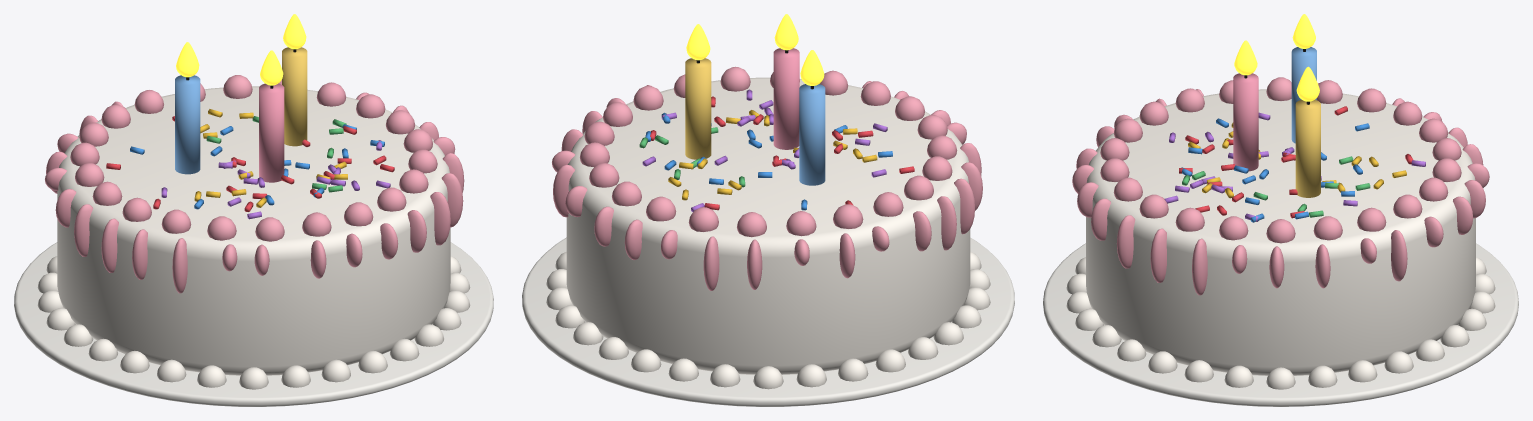
The model's file is birthday_cake.glb.
3 renders of one model, left to right at view 1: azimuth 30°, elevation 25°; view 2: azimuth 150°, elevation 25°; view 3: azimuth 270°, elevation 25°, orthographic. The views are drawn at different scales.
Parts seen in each view (by area): view 1: cake_body; view 2: cake_body; view 3: cake_body.
Boxes of the visible parts, x1,y1,x2,y2 form: cake_body: (14,14,493,406); cake_body: (522,14,1014,406); cake_body: (1043,14,1518,406).
Bounding box in the file's own units: 0.26 × 0.1627 × 0.26.
